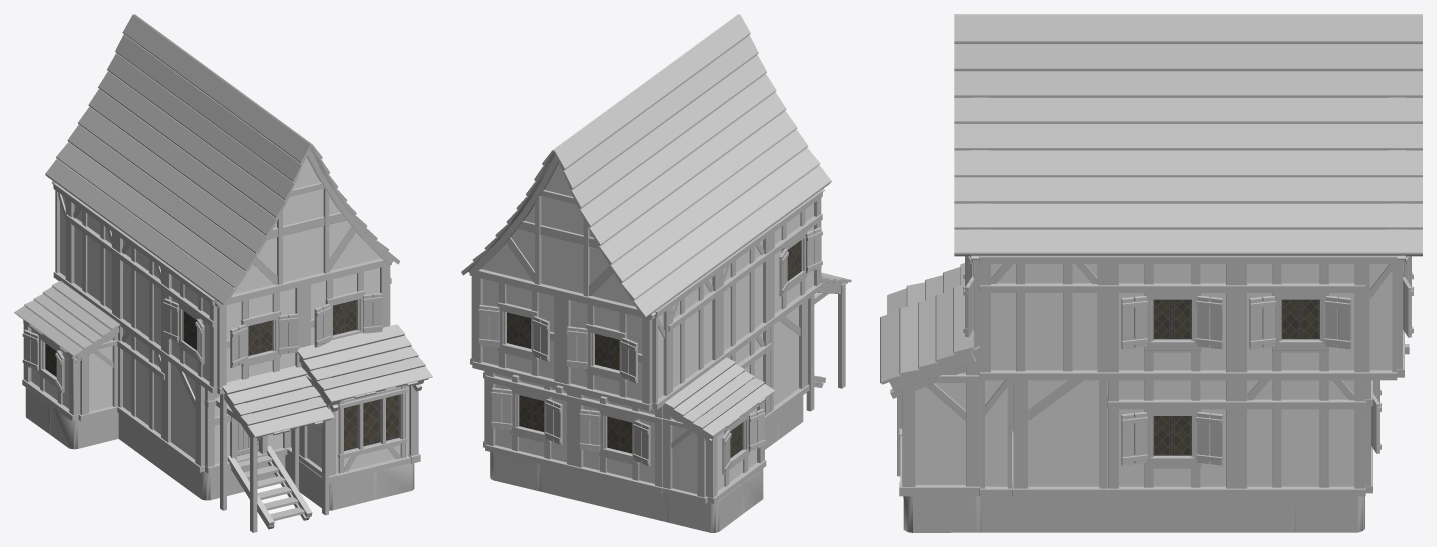
File: House_1A17.fbx
3 renders of one model, left to right at view 1: azimuth 30°, elevation 25°; view 2: azimuth 150°, elevation 25°; view 3: azimuth 270°, elevation 25°, orthographic. The views are drawn at different scales.
Parts seen in each view (by area): view 1: House_1A17, Plane.180, Plane.181, Plane.182; view 2: House_1A17, Plane.217, Plane.218, Plane.216, Plane.215, Plane.389; view 3: House_1A17, Plane.391, Plane.392, Plane.393.
Boxes of the visible parts, x1,y1,x2,y2 form: House_1A17: (14,14,432,532); Plane.180: (344,394,399,450); Plane.181: (248,320,272,355); Plane.182: (333,300,356,335); House_1A17: (461,14,851,532); Plane.217: (607,416,632,453); Plane.218: (519,395,544,431); Plane.216: (507,312,531,348); Plane.215: (595,334,619,370); Plane.389: (787,240,801,280); House_1A17: (880,14,1422,532); Plane.391: (1281,299,1319,339); Plane.392: (1153,299,1191,339); Plane.393: (1153,416,1191,455).
Size of the model in its own units: 1152 by 1680 by 1761.
